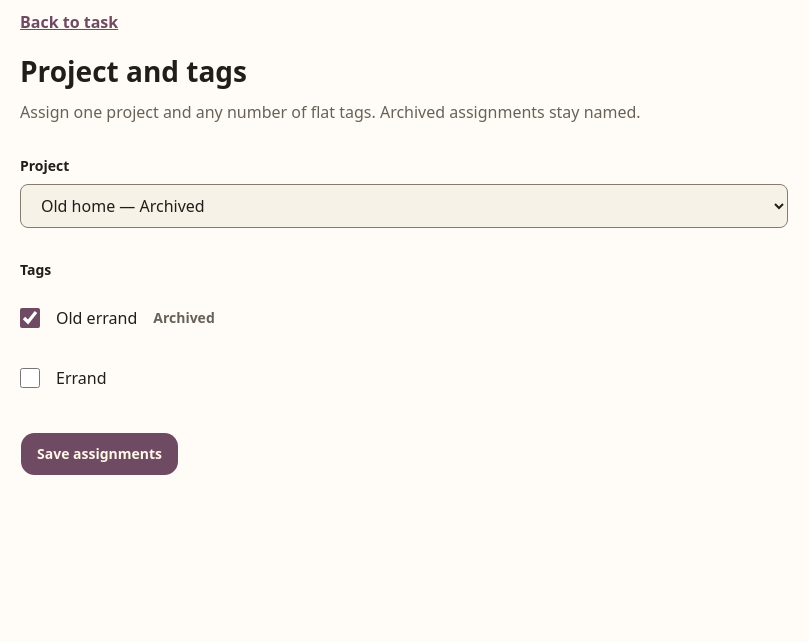
organization assignment fields › retains exact bytes through before-acceptance authentication and continuation
The image size is (809, 642).
Select "Home" in the dropdown labelled "Project". click: (404, 206)
box: [20,184,788,228]
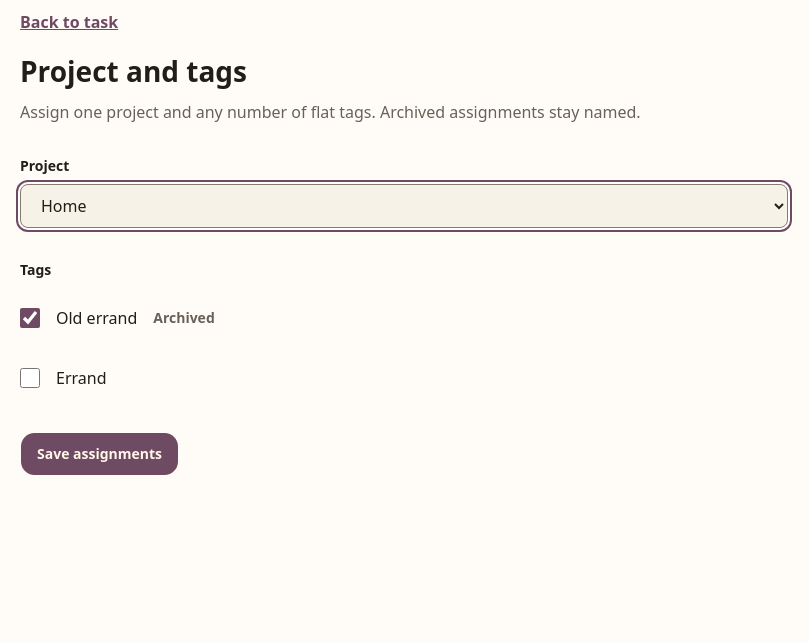
Click the button "Save assignments". click: (100, 454)
box: [20,432,179,476]
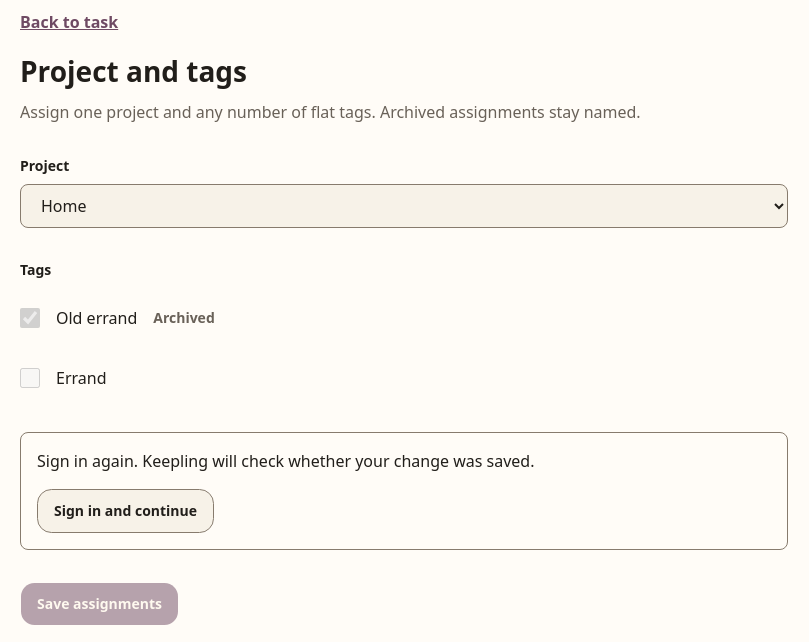
Click the button "Sign in and continue". click: (126, 511)
box: [37,489,214,533]
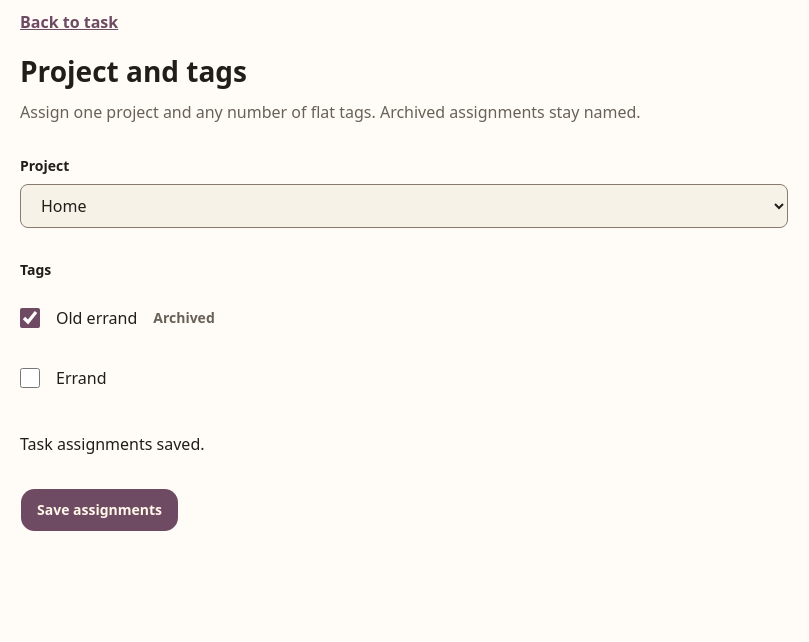
Expected: the message reads "Task assignments saved.", [20,433,204,455]
